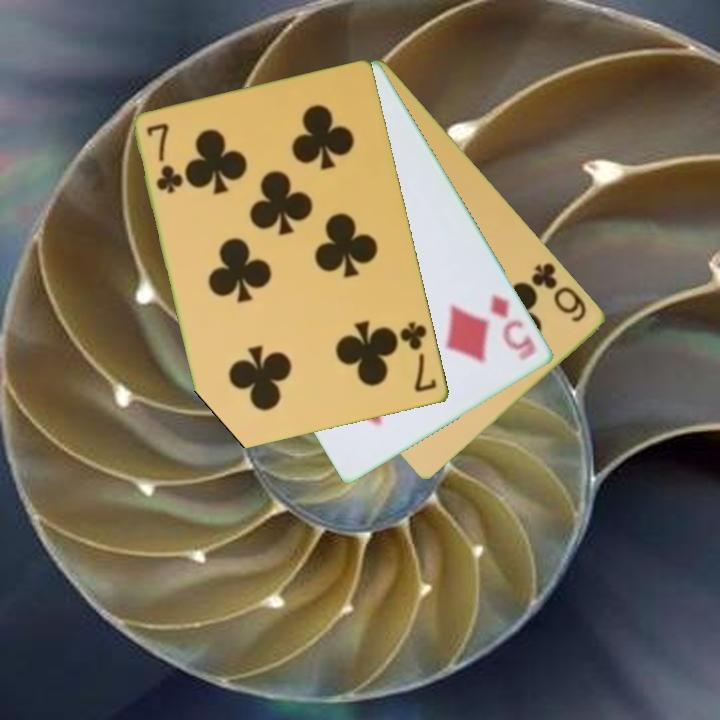5d: (487, 290, 540, 364)
6c: (528, 259, 590, 326)
7c: (396, 318, 440, 396), (143, 119, 185, 197)
